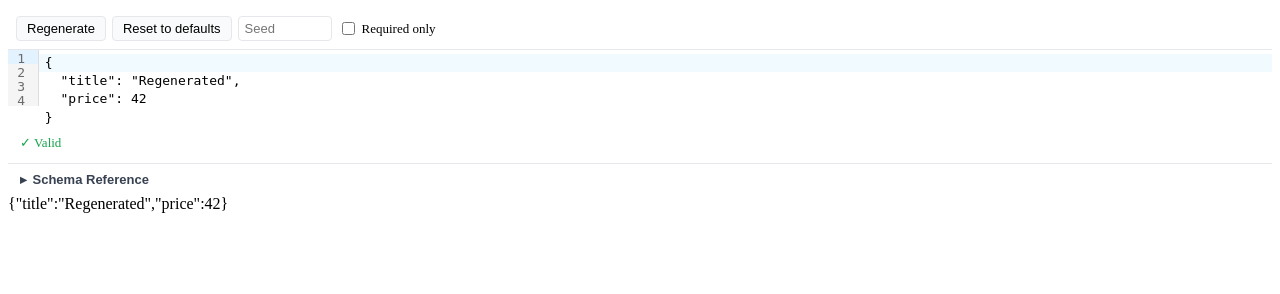
it: ContextPane › Schema Reference renders field names
Click the button "▸ Schema Reference" at (91, 179), box [8, 164, 1272, 195]
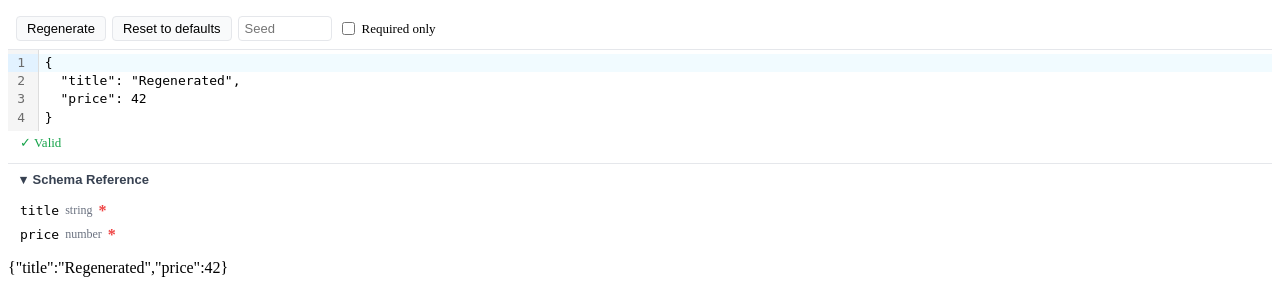
Expected: the text "title" is shown, [20, 203, 59, 218]
Expected: the text "price" is shown, [20, 227, 59, 242]
